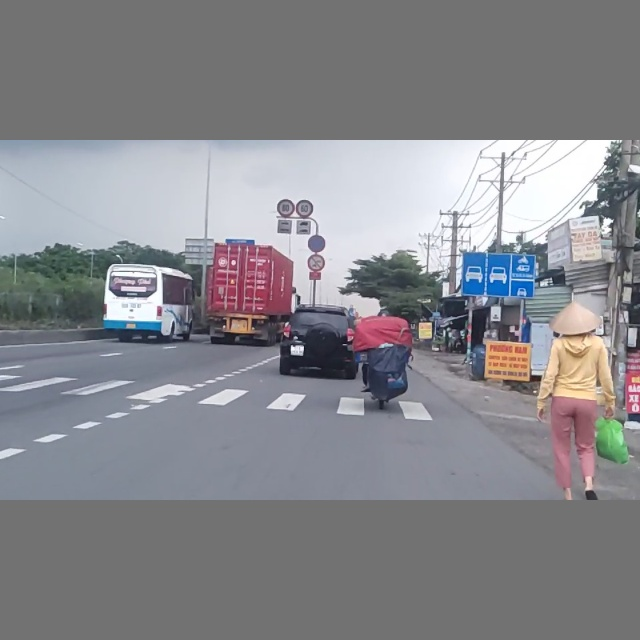P.111: (308, 255, 325, 271)
P.127*60: (297, 199, 313, 217)
P.127*80: (277, 199, 295, 217)
P.130: (307, 235, 327, 253)
R.415a: (462, 252, 535, 299)
